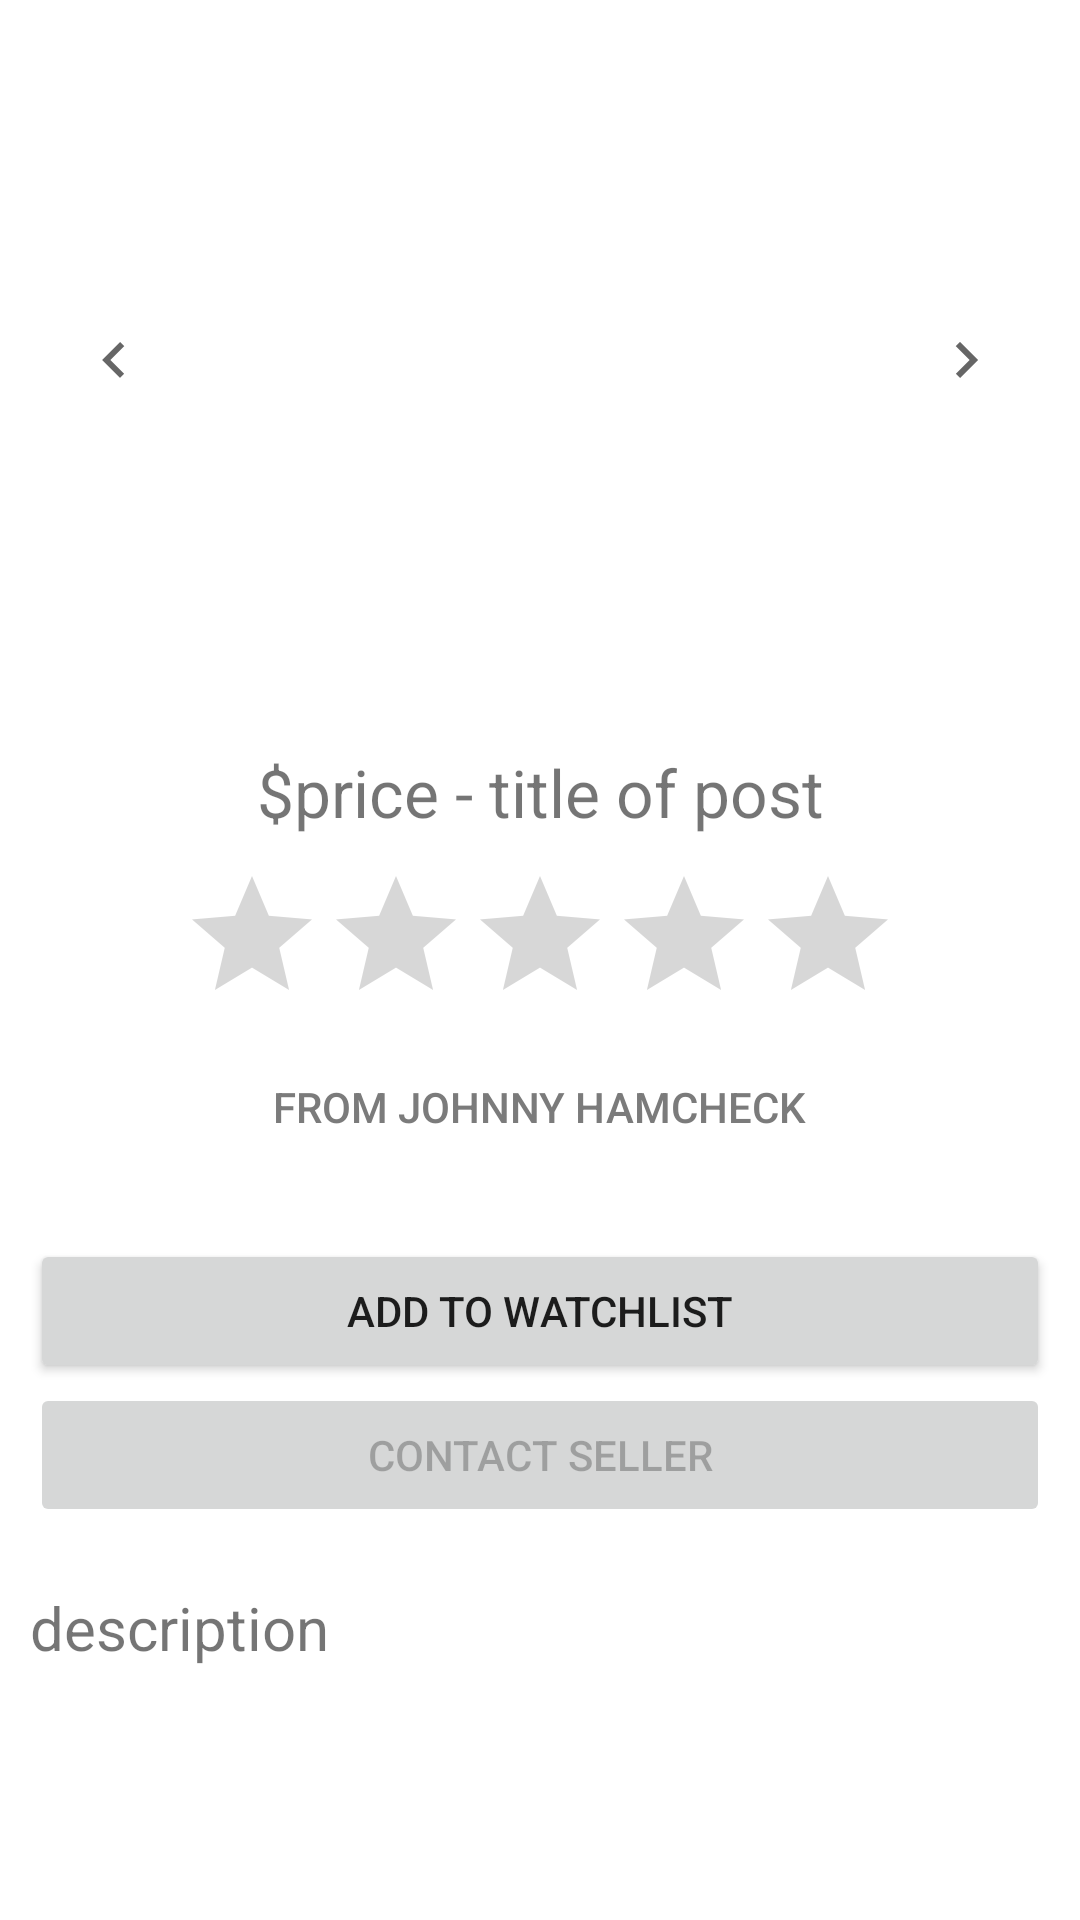

Icons on this 1080x1920 Android screen, each with the point to tap as point (x, y):
Left arrow: point (113, 360)
Right arrow: point (967, 360)
